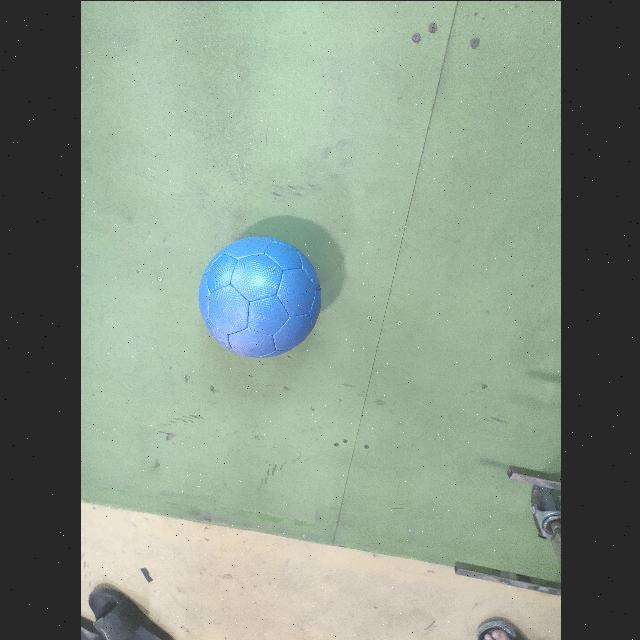B: (196, 232, 322, 357)
